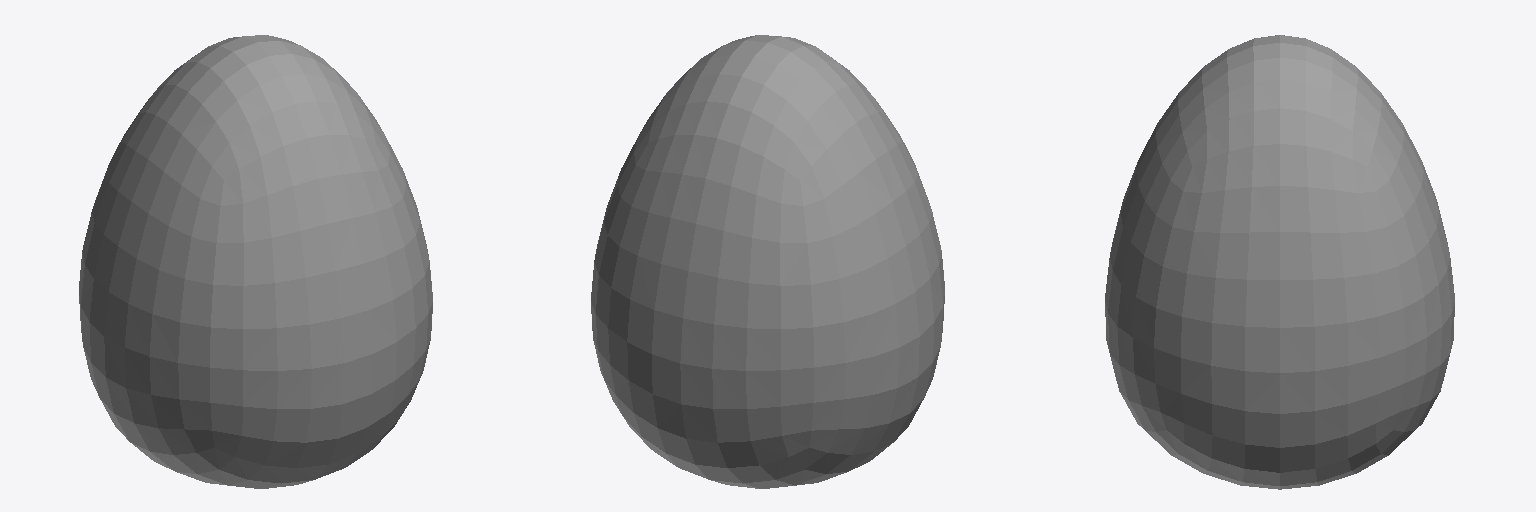
File: pixelegg.obj
3 renders of one model, left to right at view 1: azimuth 30°, elevation 25°; view 2: azimuth 150°, elevation 25°; view 3: azimuth 270°, elevation 25°, orthographic.
Parts seen in each view (by area): view 1: Cube; view 2: Cube; view 3: Cube.
Boxes of the visible parts, x1,y1,x2,y2 form: Cube: [79, 35, 432, 488]; Cube: [591, 35, 944, 488]; Cube: [1105, 35, 1454, 489].
Bounding box in the file's own units: 0.7748 × 1.04 × 0.7748.